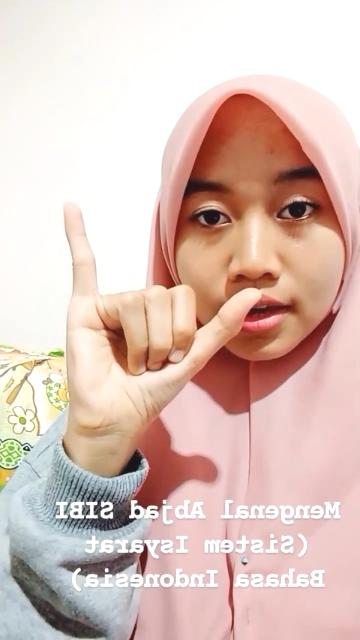Y: (61, 200, 262, 430)
